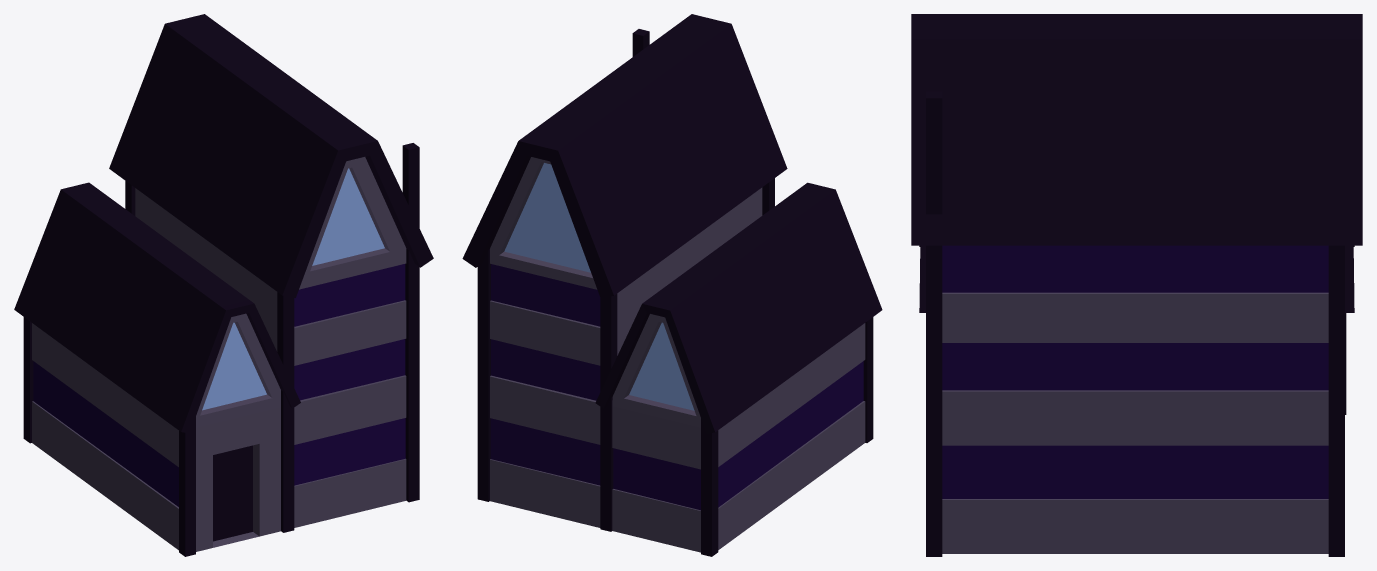
File: SpiritHouse.fbx
The picture shows the model from 3 angles, left to right: view 1: azimuth 30°, elevation 25°; view 2: azimuth 150°, elevation 25°; view 3: azimuth 270°, elevation 25°; orthographic projection. The views are drawn at different scales.
Visible parts, largest first — view 1: Cube; view 2: Cube; view 3: Cube.
Boxes of the visible parts, x1,y1,x2,y2 form: Cube: (14,14,433,556); Cube: (462,14,882,556); Cube: (911,14,1362,556).
Size of the model in its own units: 21.52 by 25.88 by 30.86.
